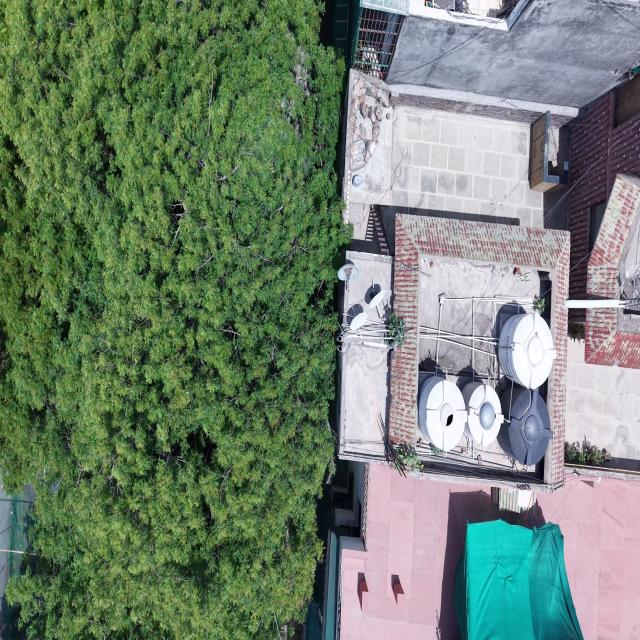ROOFTOP_BUILDING: (339, 0, 639, 639), (338, 71, 569, 488), (339, 214, 569, 487), (335, 465, 639, 639), (344, 71, 555, 309), (389, 215, 569, 485), (327, 0, 639, 108), (386, 0, 639, 107), (555, 74, 639, 298), (565, 76, 639, 298), (567, 307, 639, 476), (587, 175, 639, 298), (338, 336, 389, 461)
VEGETATION_TREE: (0, 0, 348, 639), (565, 437, 611, 466)
